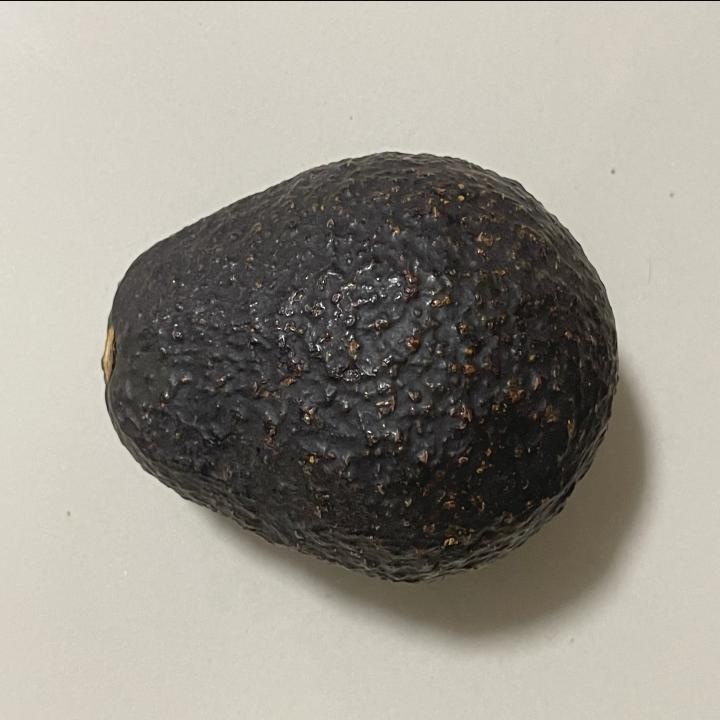Level1: (82, 135, 642, 591)
